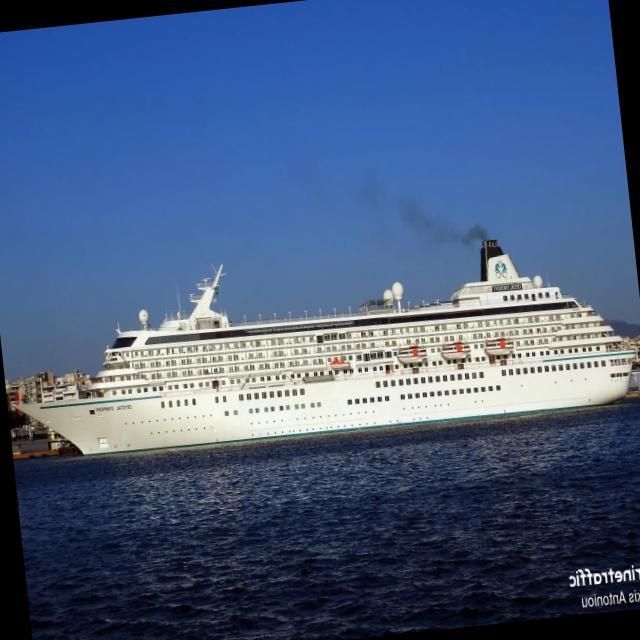Cruise: (15, 239, 640, 454)
